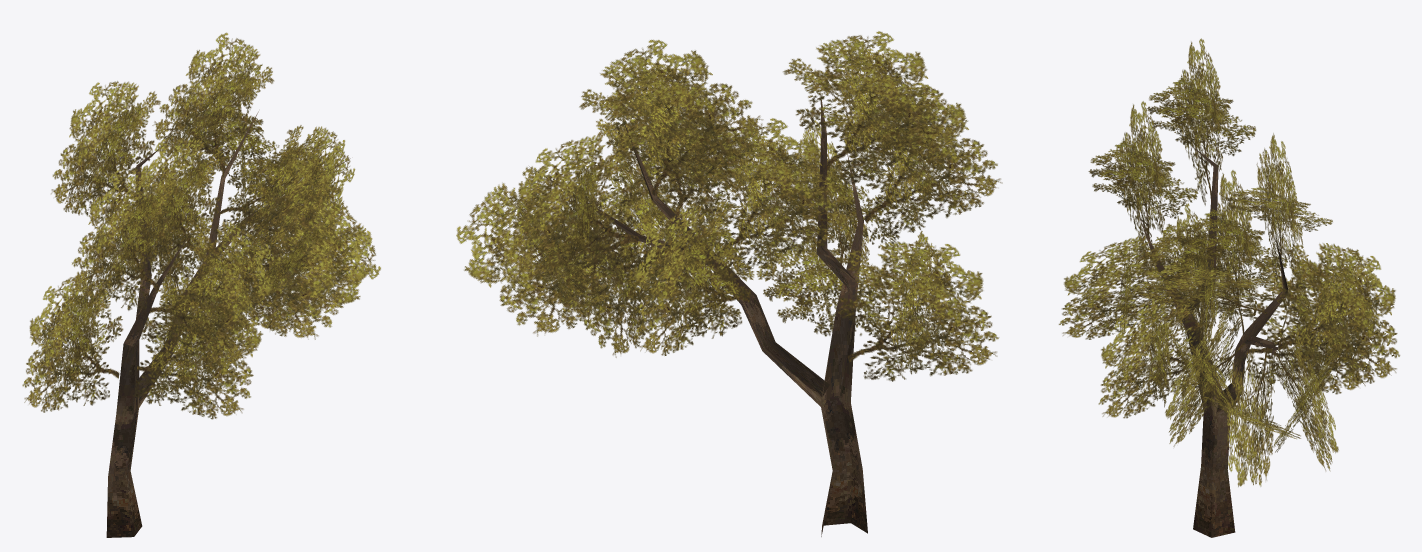
The model's file is stage-maya-p4-79.glb.
3 views of the same model, side by side, from view 1: azimuth 30°, elevation 25°; view 2: azimuth 150°, elevation 25°; view 3: azimuth 270°, elevation 25° (orthographic). The views are drawn at different scales.
Size of the model in its own units: 24.12 by 24.75 by 16.31.
3 materials, 3 textured.
